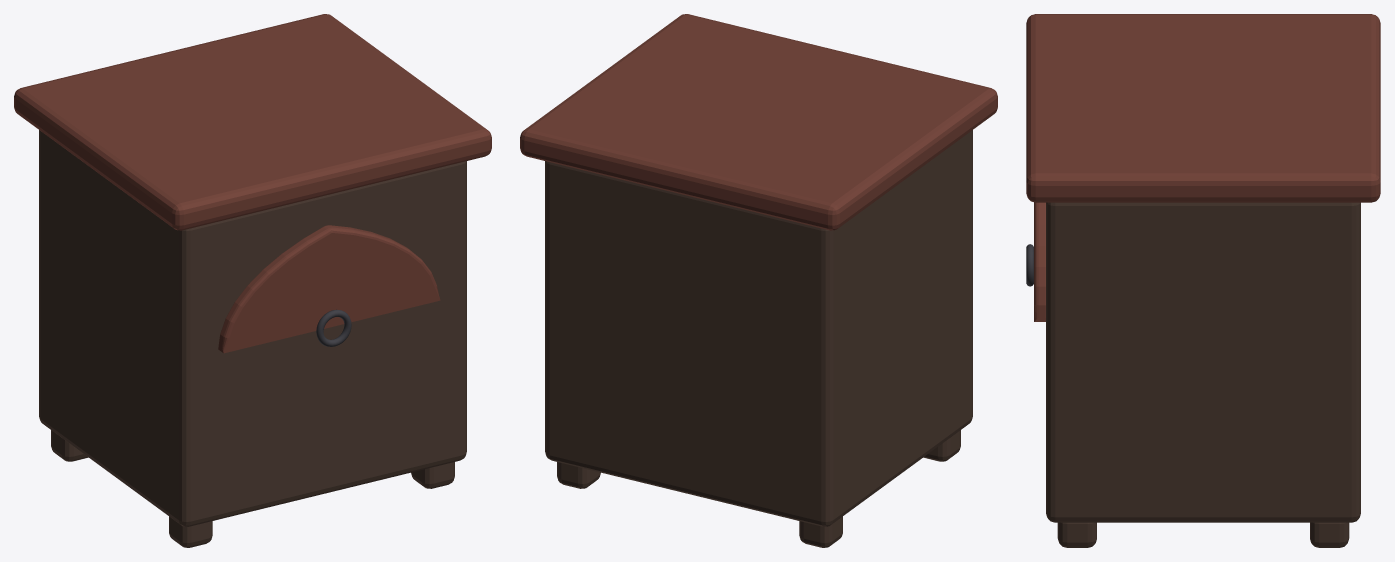
File: nightstand.glb
The picture shows the model from 3 angles, left to right: view 1: azimuth 30°, elevation 25°; view 2: azimuth 150°, elevation 25°; view 3: azimuth 270°, elevation 25°; orthographic projection. The views are drawn at different scales.
Visible parts, largest first — view 1: GD_nightstand; view 2: GD_nightstand; view 3: GD_nightstand.
Boxes of the visible parts, x1=… form: GD_nightstand: x1=14, y1=14, x2=491, y2=547; GD_nightstand: x1=520, y1=14, x2=997, y2=547; GD_nightstand: x1=1026, y1=14, x2=1380, y2=547.
Size of the model in its own units: 0.5 by 0.54 by 0.45.
